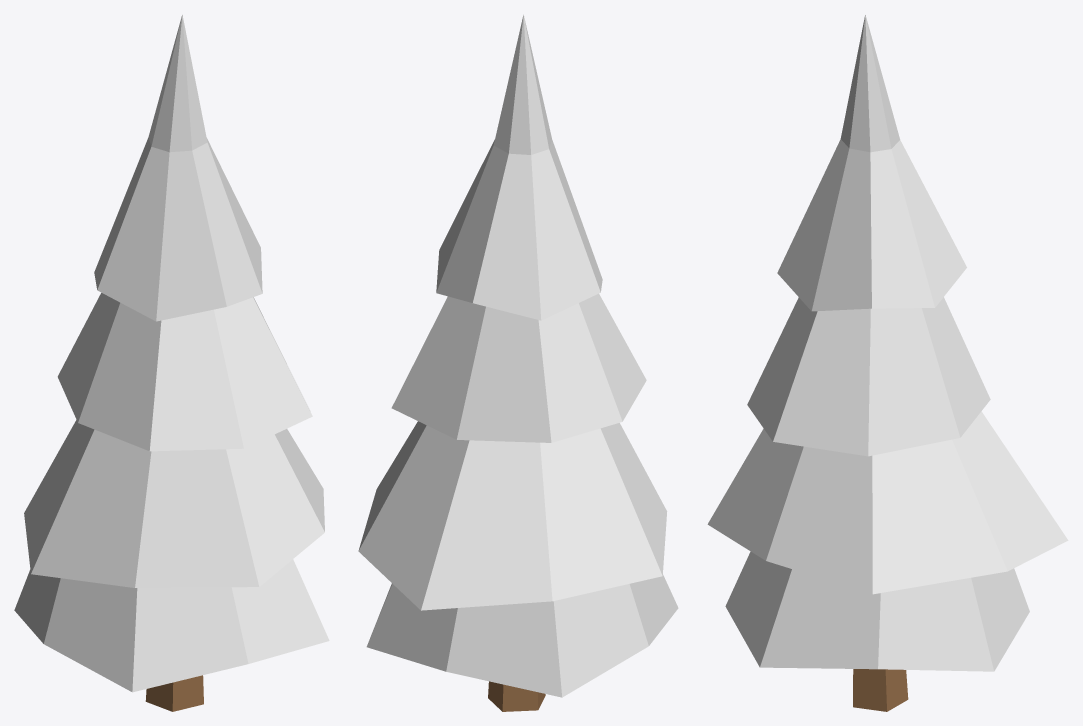
Rendered from Fir_Tree_OneSided_m_Snow_01_LOD.fbx.
3 renders of one model, left to right at view 1: azimuth 30°, elevation 25°; view 2: azimuth 150°, elevation 25°; view 3: azimuth 270°, elevation 25°, orthographic.
Parts seen in each view (by area): view 1: Fir_Tree_OneSided_m_Snow_01_LOD0; view 2: Fir_Tree_OneSided_m_Snow_01_LOD0; view 3: Fir_Tree_OneSided_m_Snow_01_LOD0.
Part boxes in pixels (<box>): Fir_Tree_OneSided_m_Snow_01_LOD0: <box>14,14,329,711</box>; Fir_Tree_OneSided_m_Snow_01_LOD0: <box>358,15,678,711</box>; Fir_Tree_OneSided_m_Snow_01_LOD0: <box>707,15,1068,711</box>.
Size of what is drawn, in the model's own units: 298 by 675 by 322.
